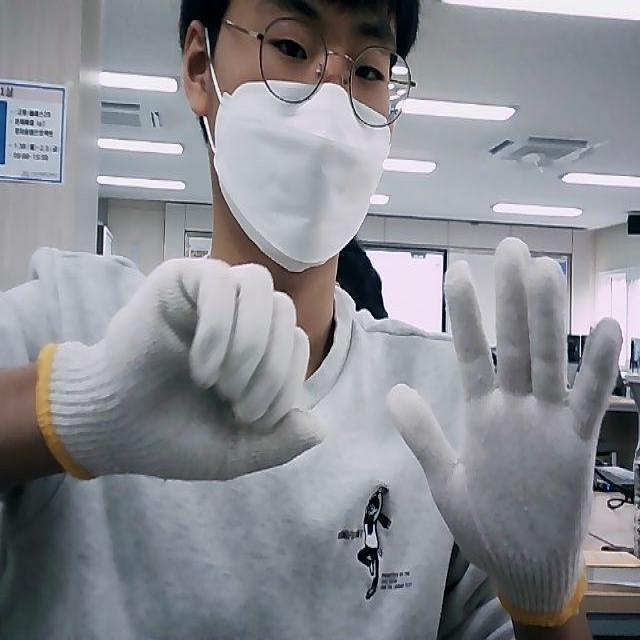GLOVE: (390, 235, 622, 626), (35, 253, 328, 483)
